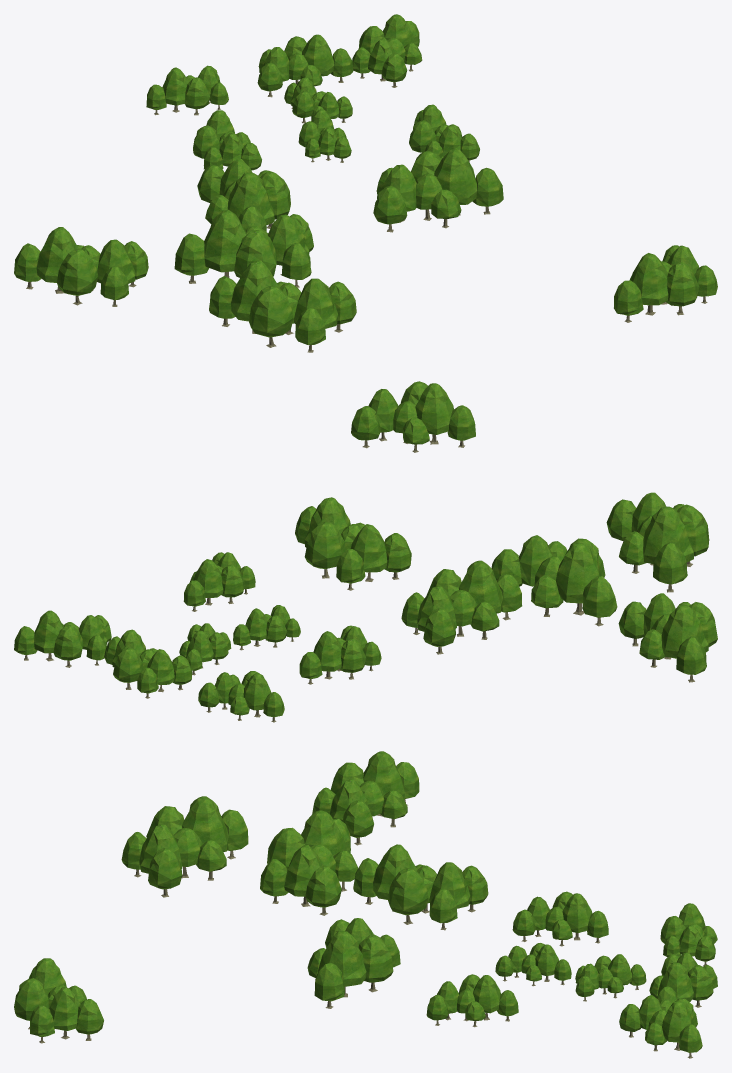
Rendered from konohavill_Tree_Distance_A2.fbx.
3 views of the same model, one above another, from view 1: azimuth 30°, elevation 25°; view 2: azimuth 150°, elevation 25°; view 3: azimuth 270°, elevation 25° (orthographic).
Visible parts, largest first — view 1: MERGED_SM_ENV_KNVLLG_Tree_Distance_A2.mo; view 2: MERGED_SM_ENV_KNVLLG_Tree_Distance_A2.mo; view 3: MERGED_SM_ENV_KNVLLG_Tree_Distance_A2.mo.
Boxes of the visible parts, x1=… form: MERGED_SM_ENV_KNVLLG_Tree_Distance_A2.mo: x1=14, y1=14, x2=717, y2=352; MERGED_SM_ENV_KNVLLG_Tree_Distance_A2.mo: x1=14, y1=381, x2=717, y2=722; MERGED_SM_ENV_KNVLLG_Tree_Distance_A2.mo: x1=14, y1=751, x2=717, y2=1058.
Bounding box in the file's own units: 35226 × 4321 × 39710.
